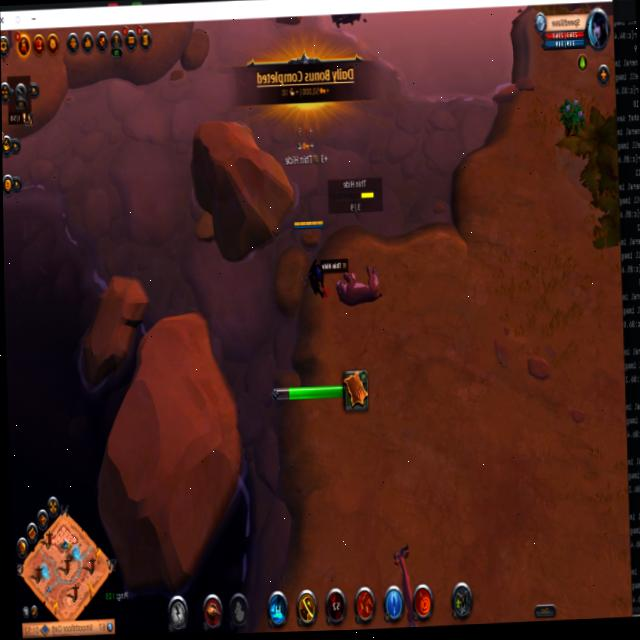hide: (558, 95, 585, 141)
mob: (332, 249, 381, 313)
red: (293, 215, 331, 306)
